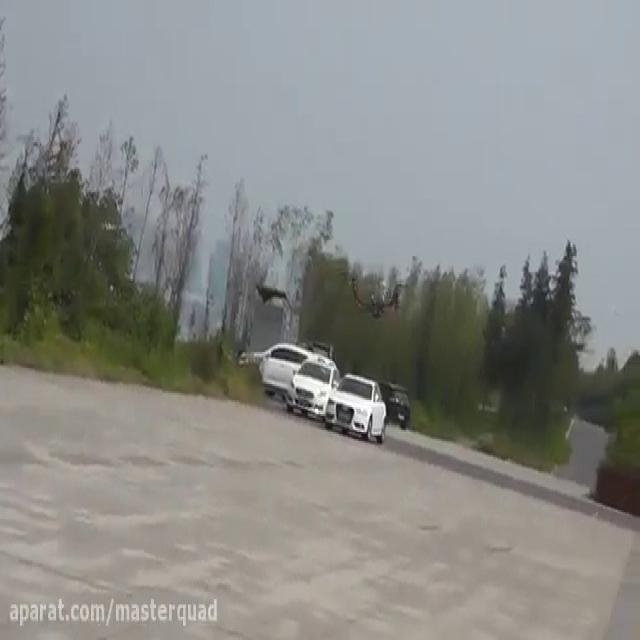drone: (348, 270, 408, 324)
